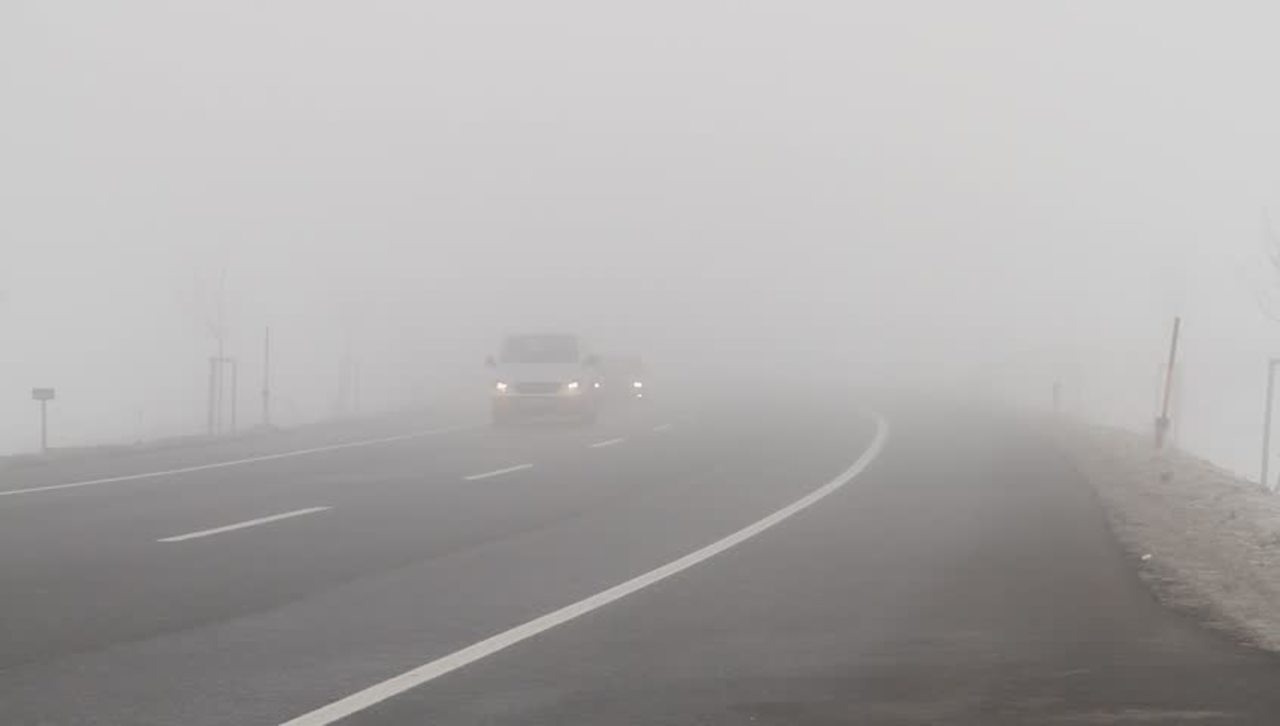car: (485, 330, 594, 425), (588, 346, 648, 409)
